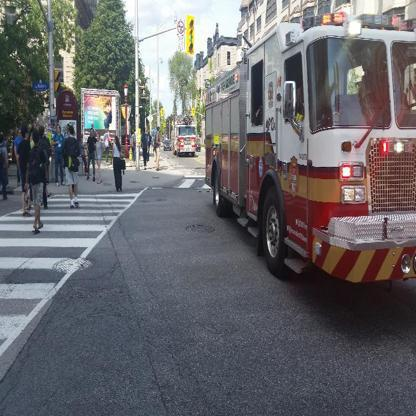fire-truck: (172, 2, 416, 357)
